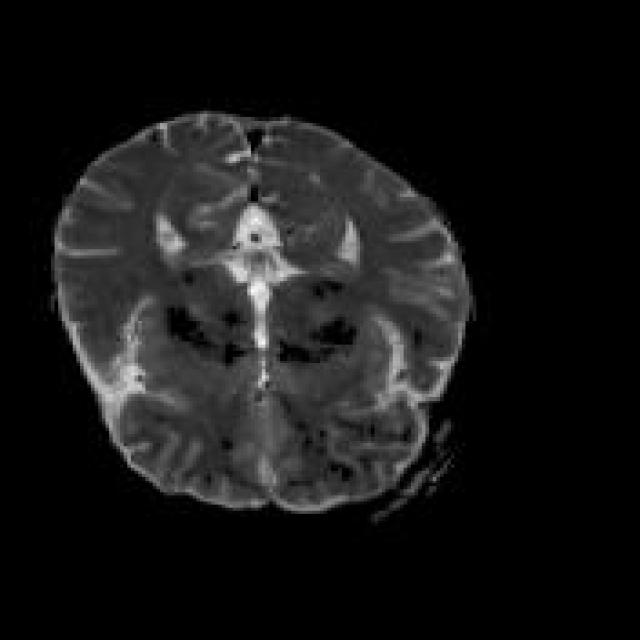CONTROL: (47, 108, 473, 517)
